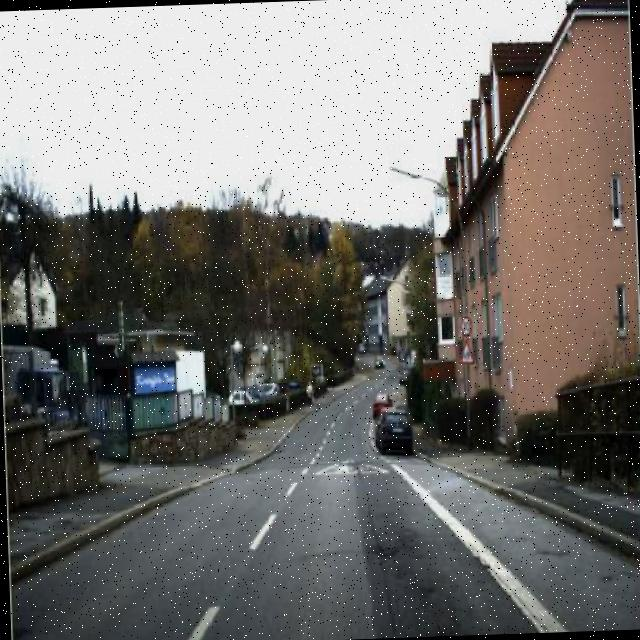Ograniczenie predkosci do 30: (457, 312, 473, 338)
